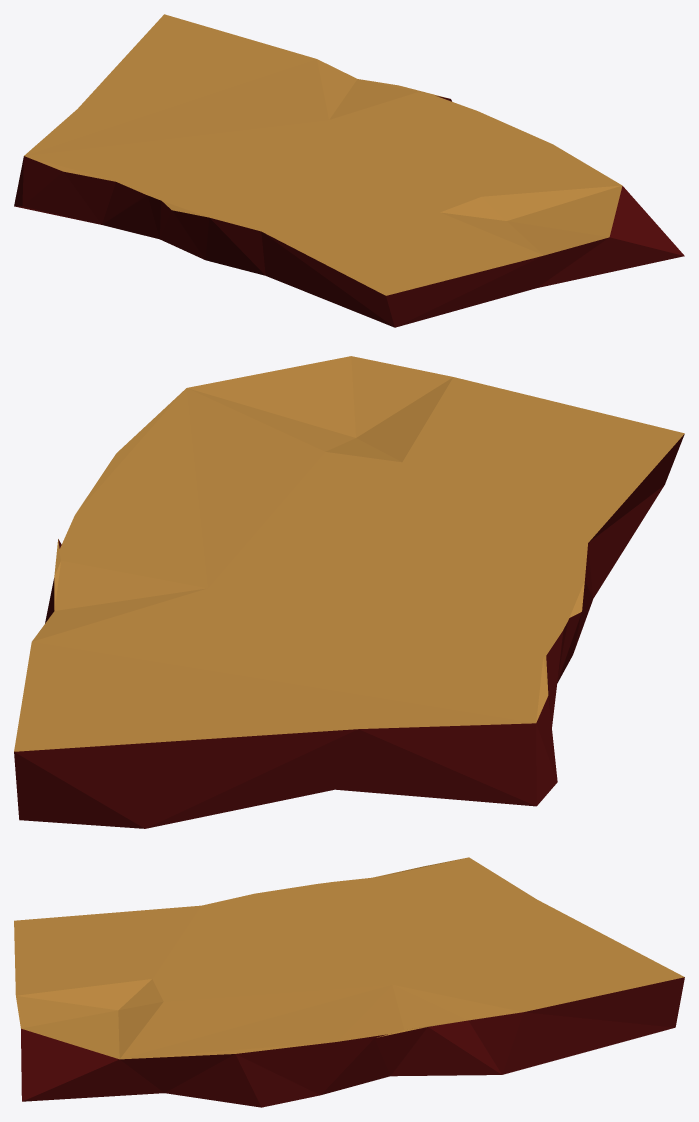
File: modPlat_Mid_Plat_Thin_modelled.fbx
3 renders of one model, top to bottom at view 1: azimuth 30°, elevation 25°; view 2: azimuth 150°, elevation 25°; view 3: azimuth 270°, elevation 25°, orthographic. The views are drawn at different scales.
Visible parts, largest first — view 1: modPlat_Mid_Plat_Thin_modelled; view 2: modPlat_Mid_Plat_Thin_modelled; view 3: modPlat_Mid_Plat_Thin_modelled.
Part boxes in pixels (x1=…): modPlat_Mid_Plat_Thin_modelled: x1=14, y1=14, x2=684, y2=327; modPlat_Mid_Plat_Thin_modelled: x1=14, y1=356, x2=684, y2=828; modPlat_Mid_Plat_Thin_modelled: x1=14, y1=857, x2=684, y2=1107.
Bounding box in the file's own units: 100 × 12.87 × 135.
